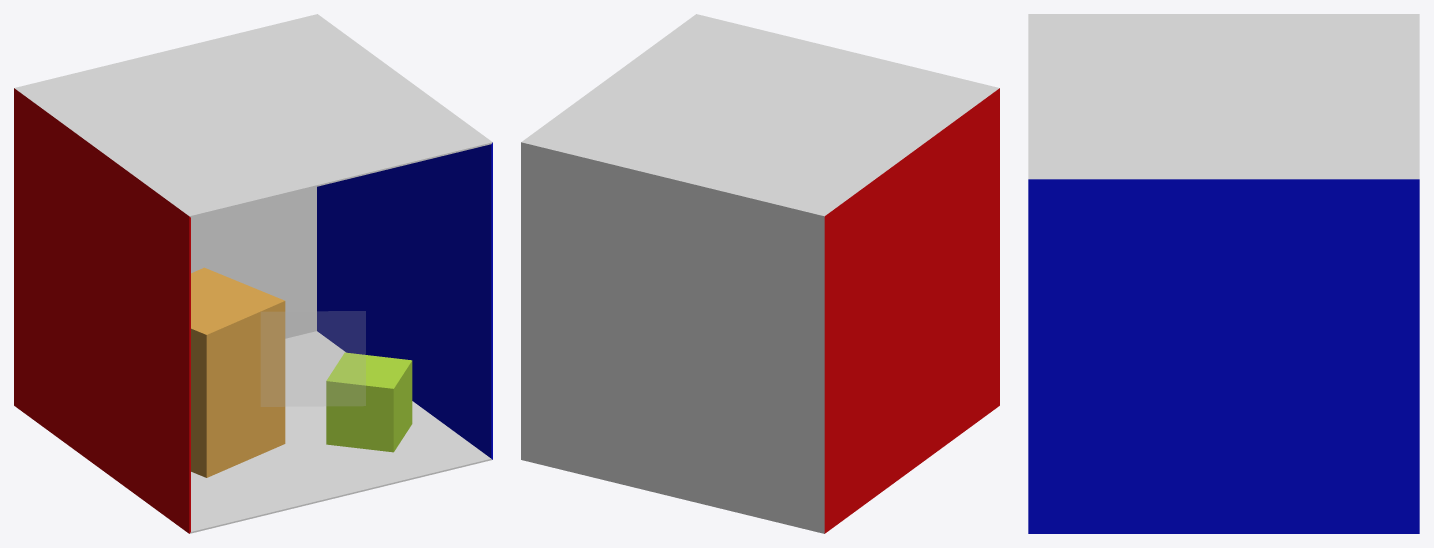
The model's file is CornellBox.gltf.
The picture shows the model from 3 angles, left to right: view 1: azimuth 30°, elevation 25°; view 2: azimuth 150°, elevation 25°; view 3: azimuth 270°, elevation 25°; orthographic projection. The views are drawn at different scales.
Visible parts, largest first — view 1: Cube, Cube.002, Plane.001, Cube.001; view 2: Cube; view 3: Cube.
Boxes of the visible parts, left/top/right/bottom form: Cube: left=14, top=14, right=492, bottom=533; Cube.002: left=191, top=267, right=285, bottom=477; Plane.001: left=261, top=311, right=365, bottom=406; Cube.001: left=326, top=352, right=412, bottom=452; Cube: left=521, top=14, right=999, bottom=533; Cube: left=1028, top=14, right=1419, bottom=533.
Bounding box in the file's own units: 2 × 2 × 2.
